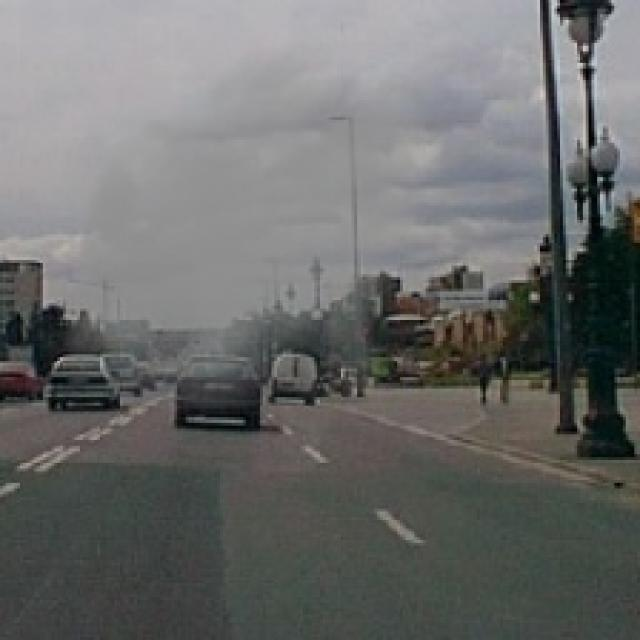Smoke: (63, 31, 426, 408)
